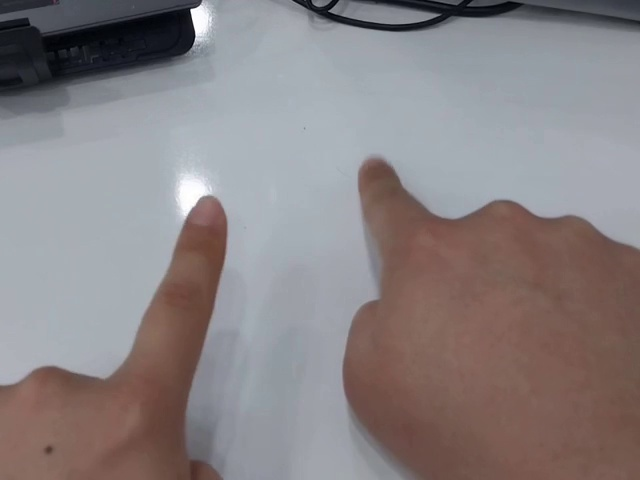fingers: (178, 194, 229, 255), (357, 155, 401, 203)
